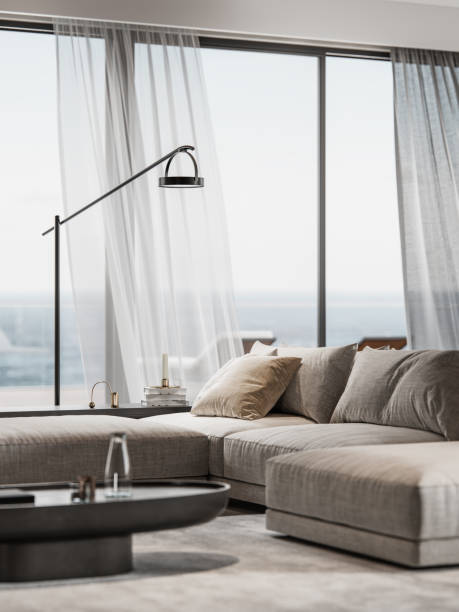floor lamp: (33, 141, 211, 415)
sofa: (0, 338, 459, 574)
table: (0, 475, 230, 580)
